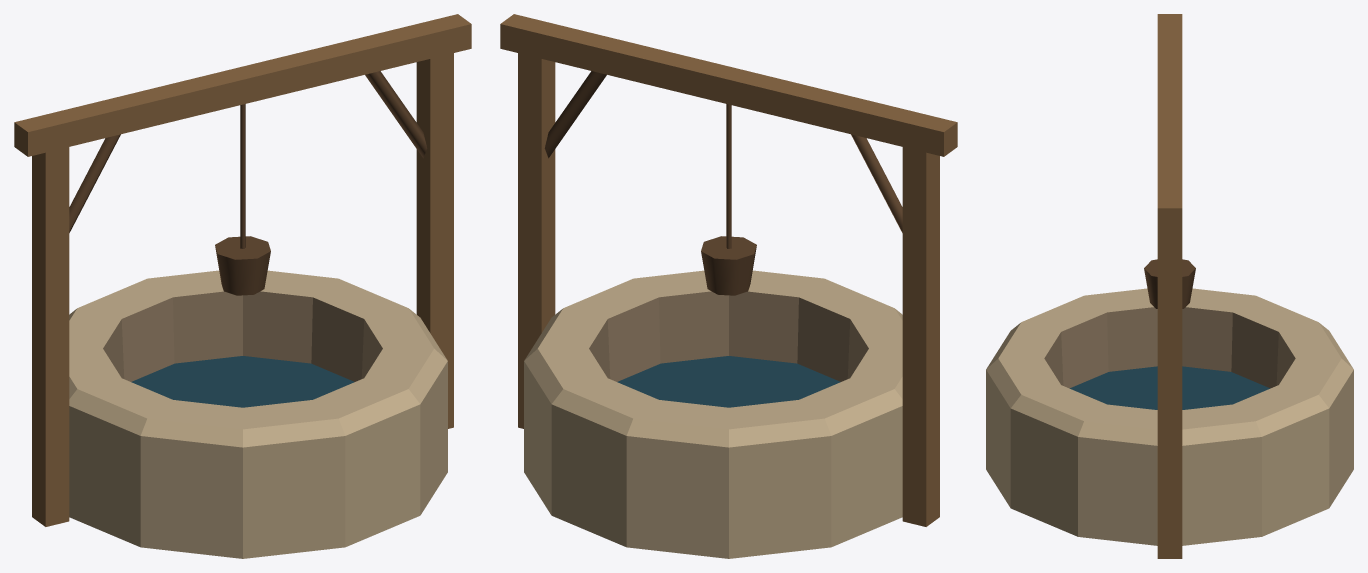
File: well.glb
3 views of the same model, side by side, from view 1: azimuth 30°, elevation 25°; view 2: azimuth 150°, elevation 25°; view 3: azimuth 270°, elevation 25° (orthographic). The views are drawn at different scales.
Parts seen in each view (by area): view 1: well; view 2: well; view 3: well.
Boxes of the visible parts, x1,y1,x2,y2 form: well: (14, 14, 471, 558); well: (500, 14, 957, 558); well: (986, 14, 1353, 558).
Bounding box in the file's own units: 3 × 2.58 × 2.4.
